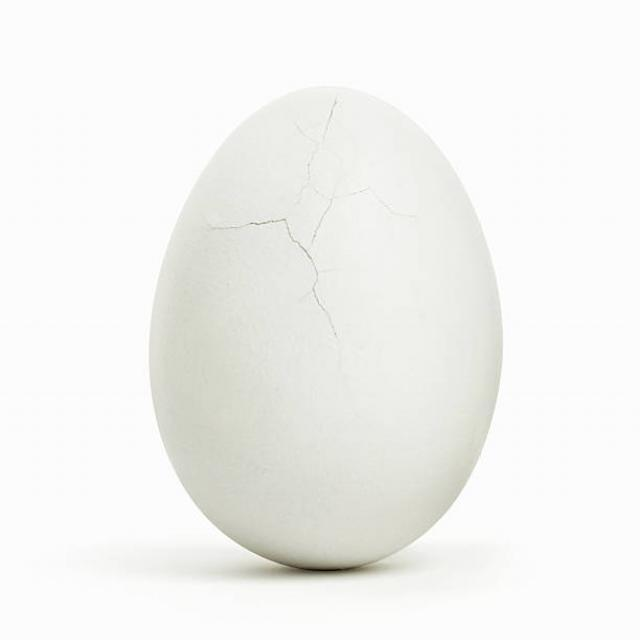biodegradable: (148, 84, 504, 574)
